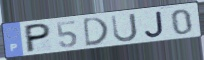0: (169, 8, 196, 35)
5: (55, 19, 79, 49)
D: (82, 15, 110, 48)
J: (144, 10, 165, 39)
P: (25, 22, 53, 55)
U: (109, 12, 139, 44)
